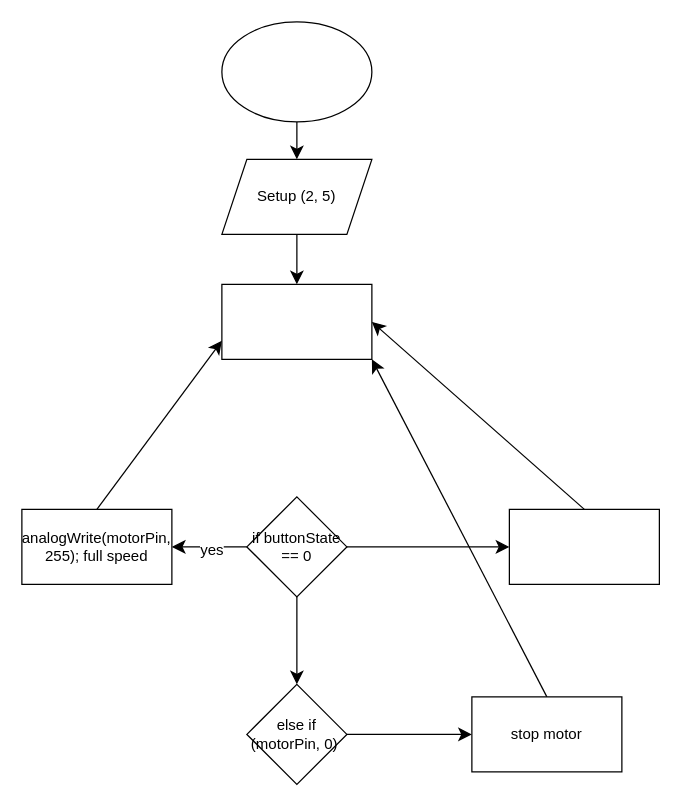
This 681x806 diagram has some shape labels left out. The shapes that lost their labels are listed below. From the top down, each one's box as (x1, y1, x2, y2) in pixels, then its label:
(221, 21, 372, 122): start
(221, 283, 372, 359): digitalRead(buttonPin)
(508, 508, 659, 584): button pressed
